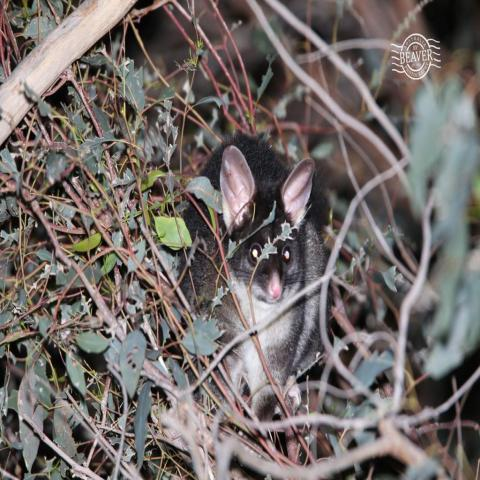small_animal: (172, 127, 334, 425)
